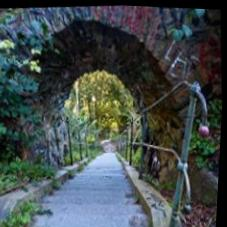Animal: (22, 167, 155, 227)
